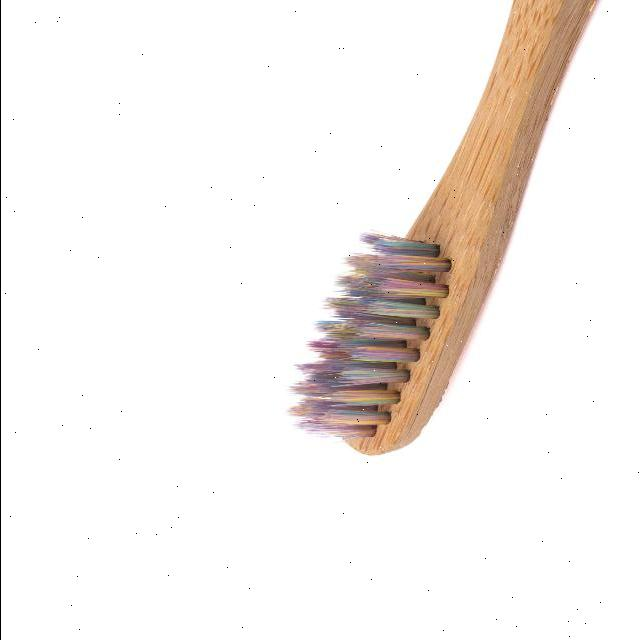toothbrush: (296, 0, 600, 508)
